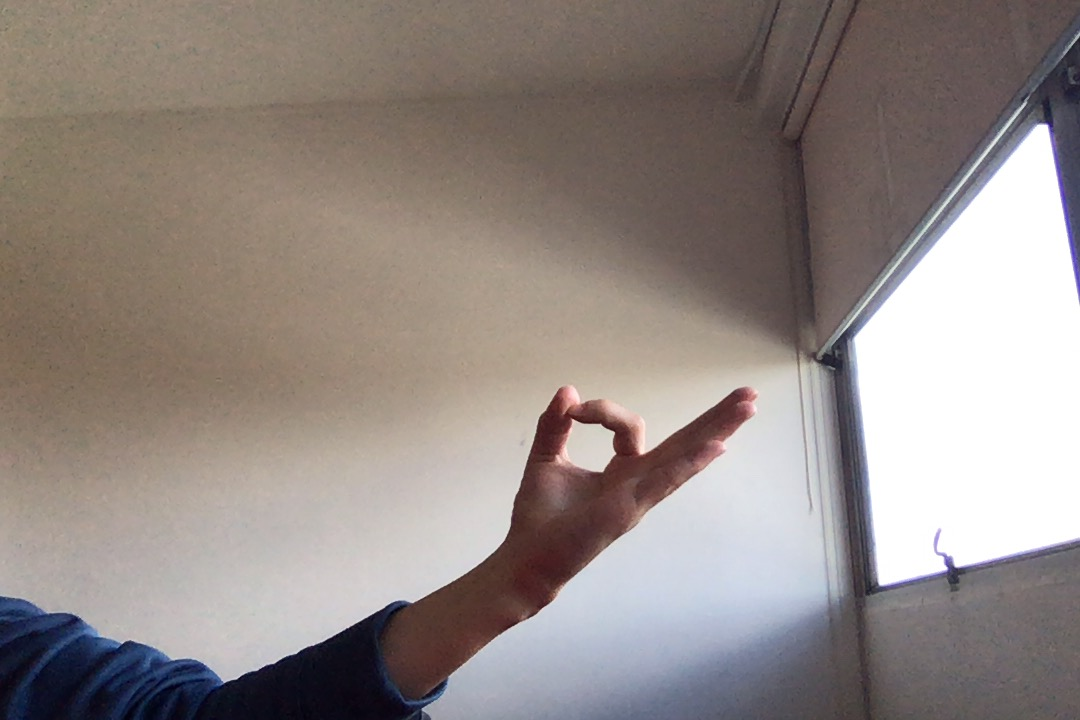oksign: (505, 376, 765, 601)
